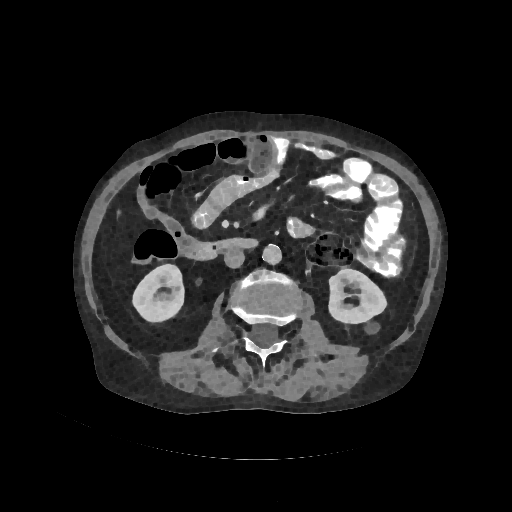Lesion: (360, 315, 384, 335)
